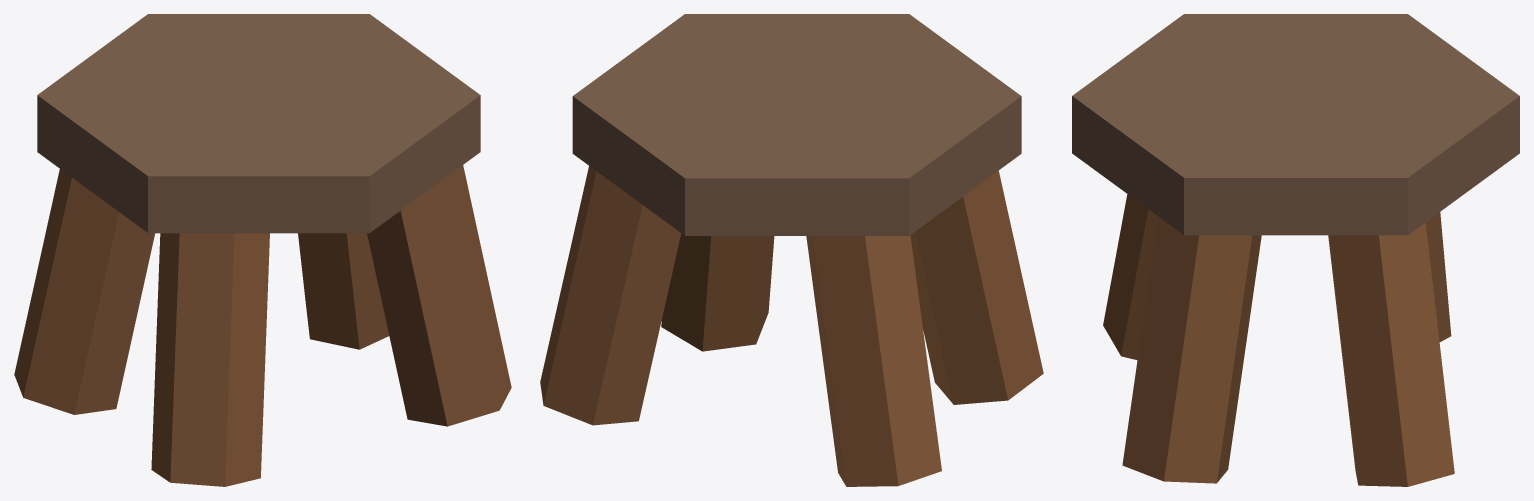
Rendered from Done_Seat.glb.
3 views of the same model, side by side, from view 1: azimuth 30°, elevation 25°; view 2: azimuth 150°, elevation 25°; view 3: azimuth 270°, elevation 25° (orthographic).
Visible parts, largest first — view 1: Seat; view 2: Seat; view 3: Seat.
Boxes of the visible parts, x1=… form: Seat: x1=14, y1=14, x2=511, y2=486; Seat: x1=540, y1=14, x2=1043, y2=486; Seat: x1=1072, y1=14, x2=1519, y2=486.
Size of the model in its own units: 1.18 by 0.8948 by 1.17.
